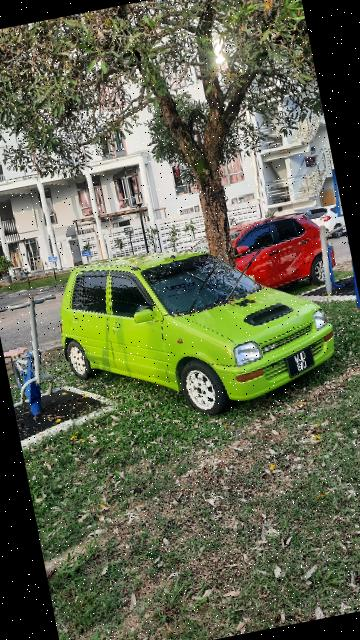License_Plate: (280, 343, 325, 380)
car: (45, 214, 349, 441), (176, 200, 345, 313)
